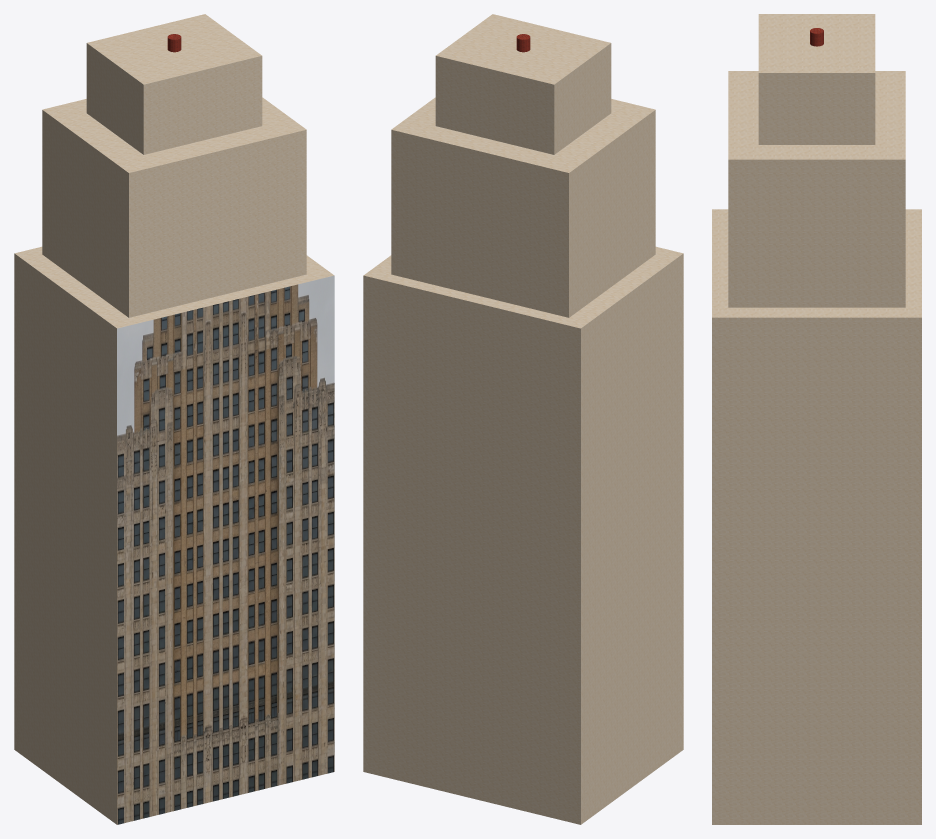
File: penobscot-tower_lod0.gltf
The picture shows the model from 3 angles, left to right: view 1: azimuth 30°, elevation 25°; view 2: azimuth 150°, elevation 25°; view 3: azimuth 270°, elevation 25°; orthographic projection. The views are drawn at different scales.
Visible parts, largest first — view 1: penobscot-tower_front, penobscot-tower_tier0, penobscot-tower_tier1, penobscot-tower_tier2; view 2: penobscot-tower_tier0, penobscot-tower_tier1, penobscot-tower_tier2; view 3: penobscot-tower_tier0, penobscot-tower_tier1, penobscot-tower_tier2.
Boxes of the visible parts, bbox=[...] form: penobscot-tower_front: bbox=[117, 275, 334, 824]; penobscot-tower_tier0: bbox=[14, 246, 334, 824]; penobscot-tower_tier1: bbox=[42, 97, 306, 317]; penobscot-tower_tier2: bbox=[86, 14, 262, 154]; penobscot-tower_tier0: bbox=[363, 246, 683, 824]; penobscot-tower_tier1: bbox=[391, 97, 655, 317]; penobscot-tower_tier2: bbox=[435, 14, 611, 154]; penobscot-tower_tier0: bbox=[712, 209, 921, 824]; penobscot-tower_tier1: bbox=[728, 71, 905, 307]; penobscot-tower_tier2: bbox=[758, 14, 875, 144].
Bounding box in the file's own units: 55 × 175 × 45.
